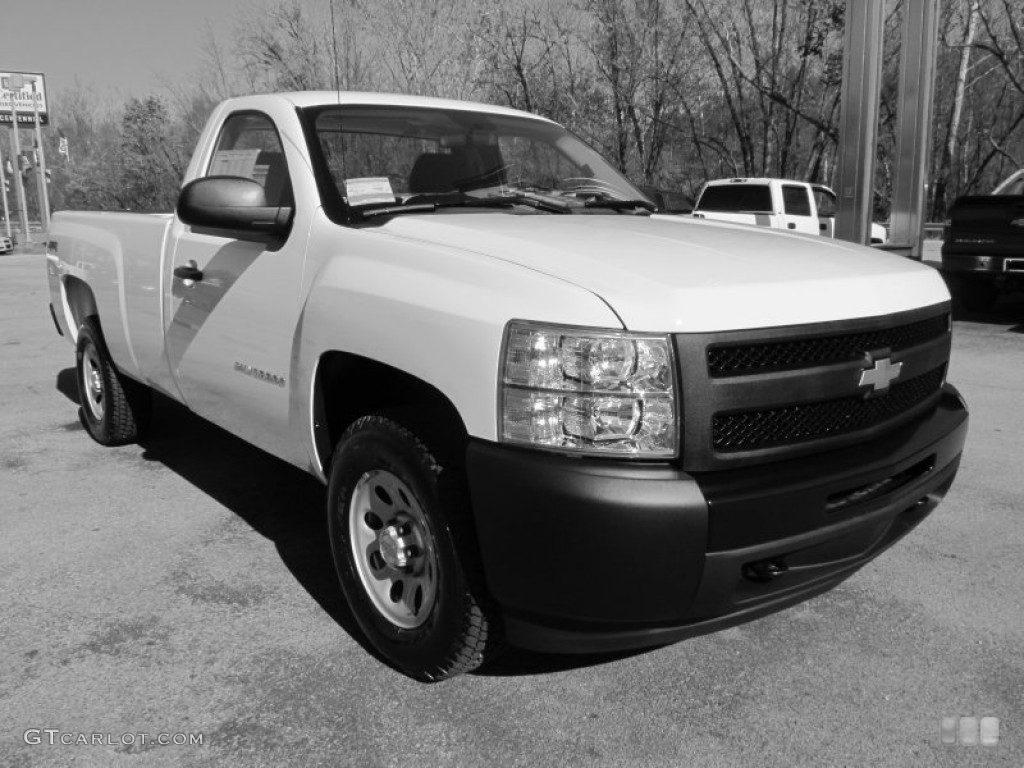car: (43, 87, 978, 683)
